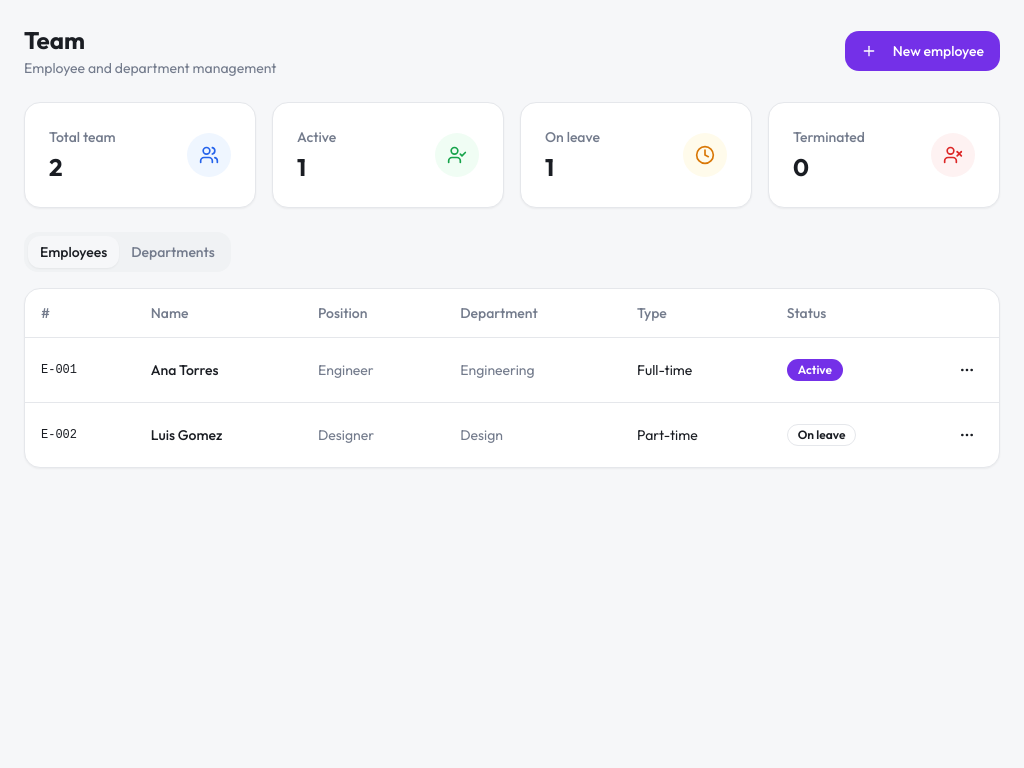
HR in English › offers to reinstate an employee on leave
Click the text "Ana Torres" at (218, 370), box [135, 337, 302, 402]
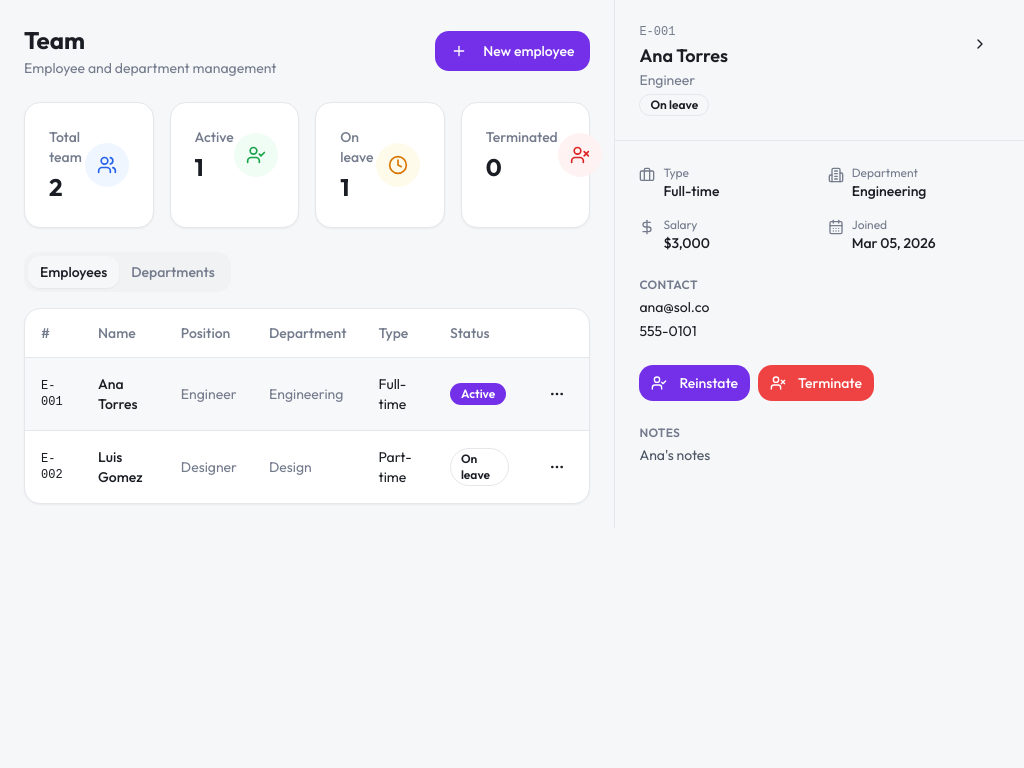
Expected: the button "Reinstate" is shown, [639, 365, 750, 401]
